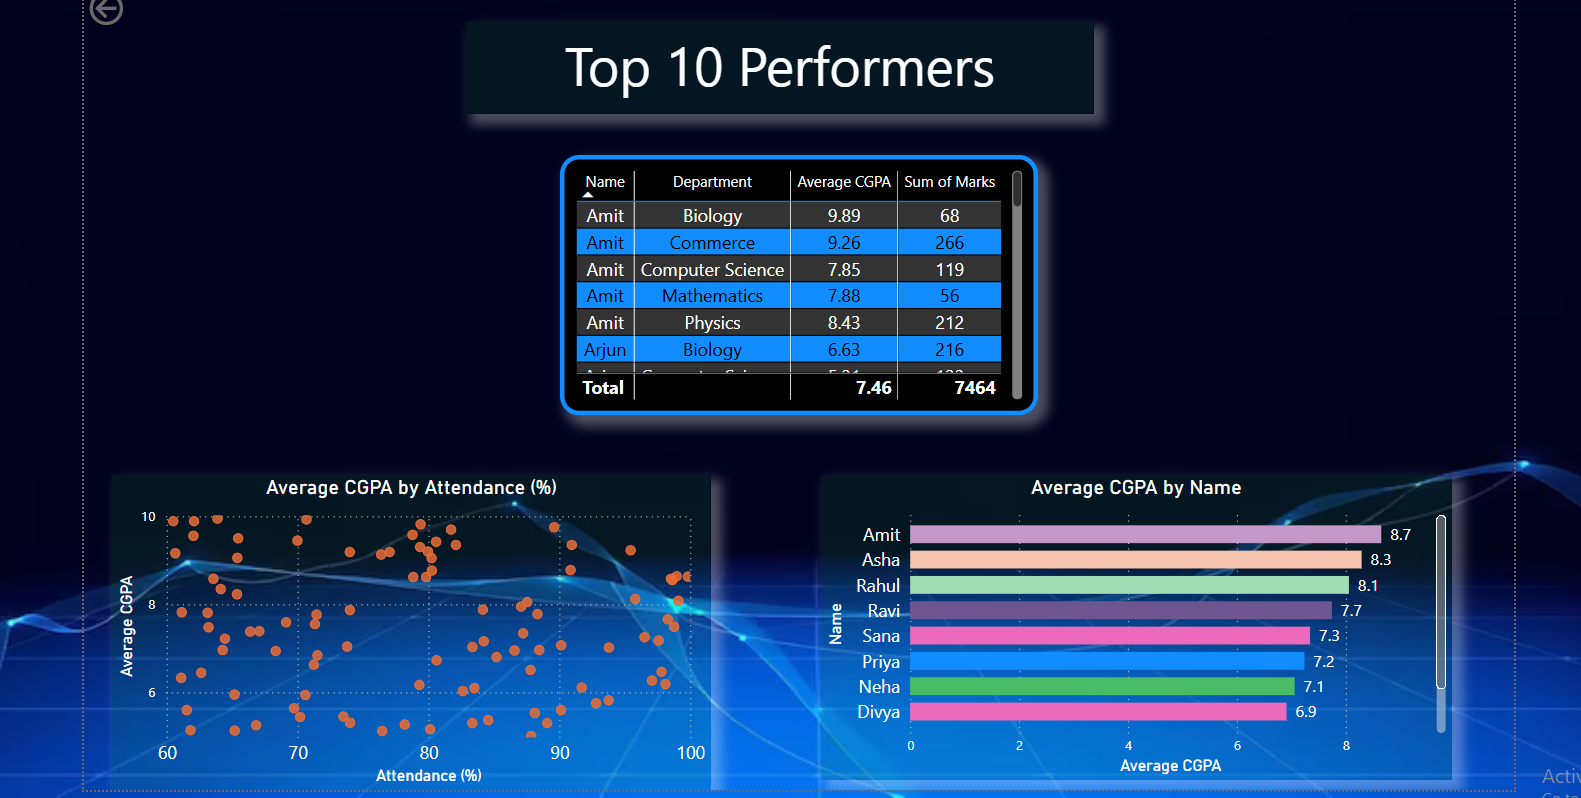

The dashboard page shown, as its layout file describes it:
{"tool":"powerbi","page":{"name":"Top 10 Performers","canvas":[1280,720],"ordinal":2},"visuals":[{"type":"actionButton","box":[0,0,100,40],"z":0},{"type":"tableEx","fields":{"Values":["university_student_performance.Name","university_student_performance.Department","university_student_performance.Average CGPA","university_student_performance.Marks"]},"box":[426,151.7,428,233.4],"z":1000},{"type":"barChart","fields":{"Y":["university_student_performance.Average CGPA"],"Category":["university_student_performance.Name"]},"box":[660.4,437.7,565.1,273.3],"z":2000},{"type":"scatterChart","fields":{"Y":["university_student_performance.Average CGPA"],"X":["university_student_performance.Attendance (%)"]},"box":[25.3,437.7,535.9,282.1],"z":3000},{"type":"textbox","box":[342.4,32.1,562.2,81.7],"z":3001}]}

Visuals, with their boxes on the page's 1280x720 design canvas (x1, y1, x2, y2). These are canvas units, not pixel positions in the 1581x798 screenshot, which may show the page scaled, cropped or inside an application window:
actionButton: left=0, top=0, right=100, bottom=40
tableEx - university_student_performance.Name x university_student_performance.Department: left=426, top=152, right=854, bottom=385
barChart - university_student_performance.Average CGPA x university_student_performance.Name: left=660, top=438, right=1226, bottom=711
scatterChart - university_student_performance.Average CGPA x university_student_performance.Attendance (%): left=25, top=438, right=561, bottom=720
textbox: left=342, top=32, right=905, bottom=114
